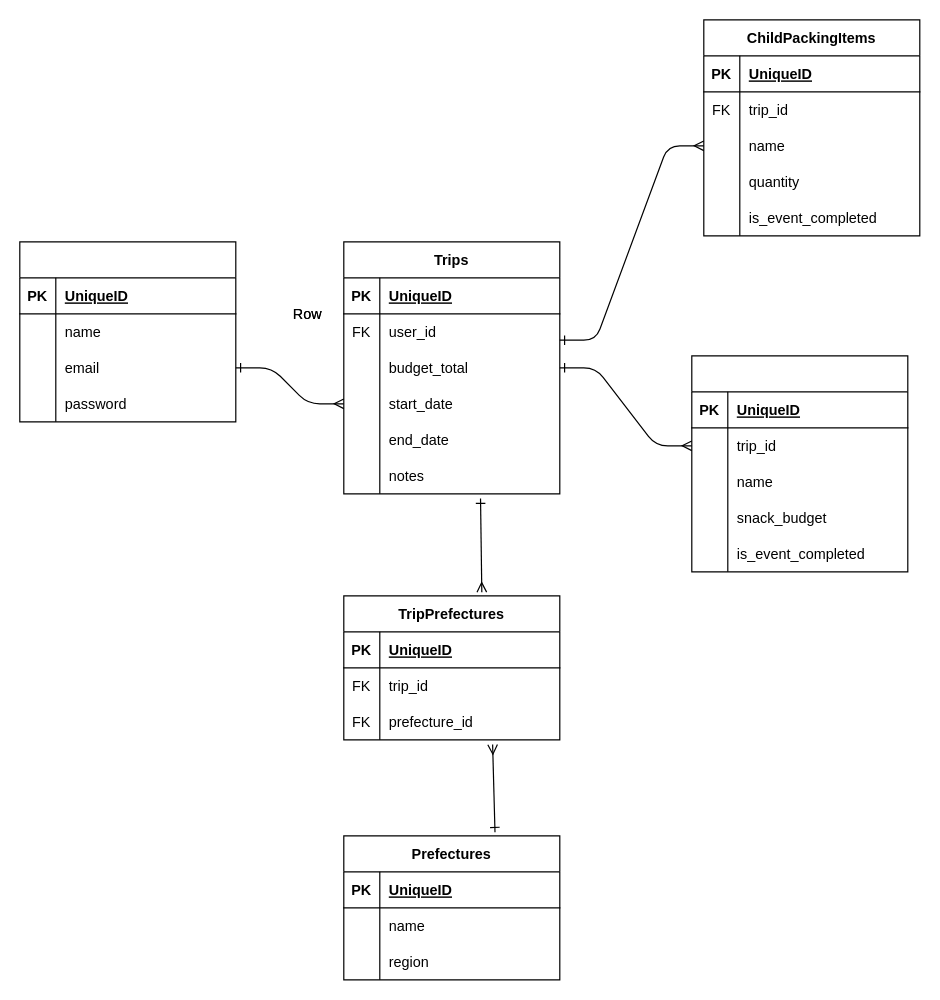
The diagram is 940 pixels wide and 1000 high, and some of its shapes have lost their labels. The box of each missing label's shape, as (x1, y1, x2, y2) in pixels:
Snacks: (691, 355, 908, 572)
Users: (19, 241, 236, 422)
